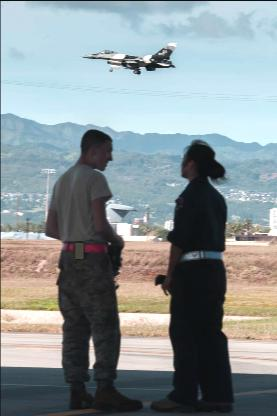C2: (1, 202, 140, 238)
F14: (78, 41, 178, 73)
